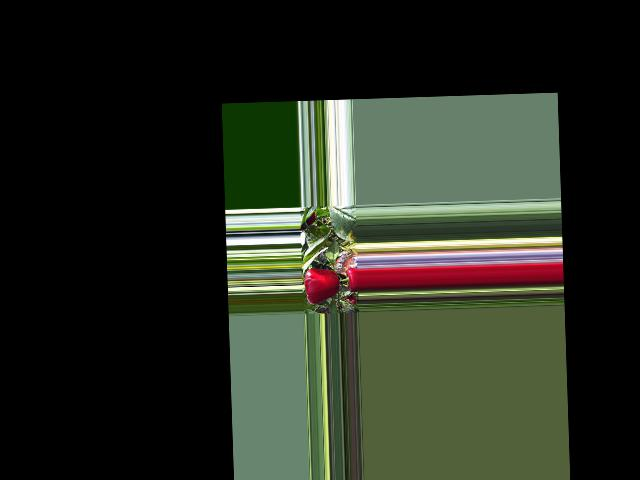bell_pepper: (343, 265, 359, 293)
